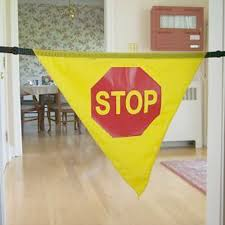SS: (90, 65, 162, 140)
